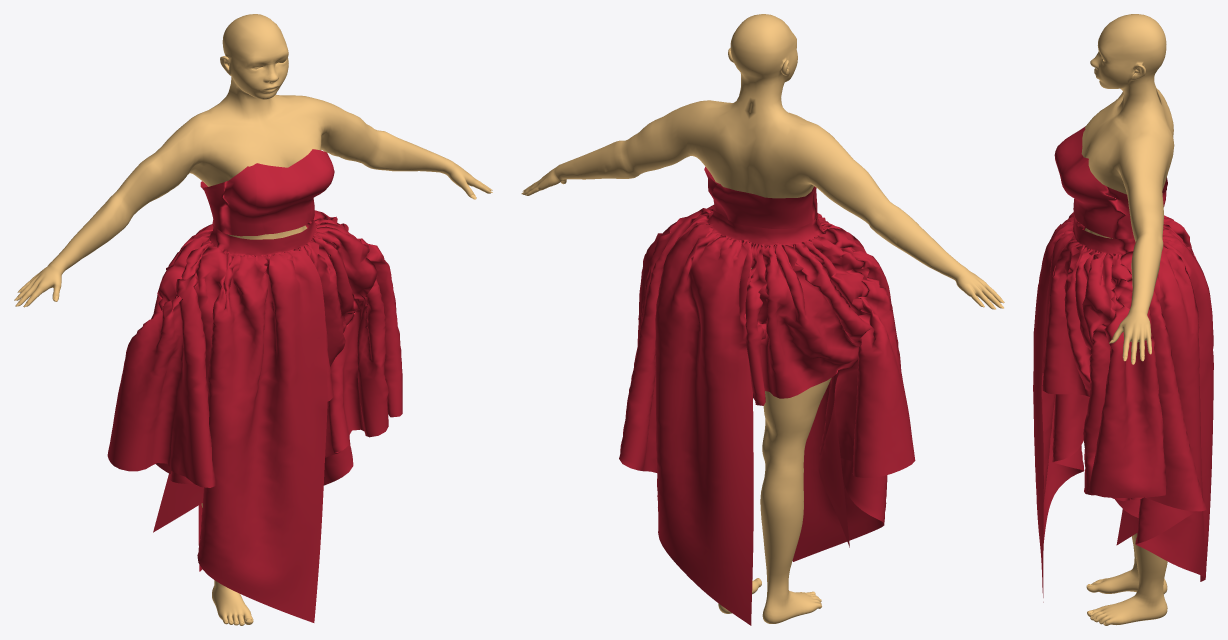
File: dress2.glb
3 views of the same model, side by side, from view 1: azimuth 30°, elevation 25°; view 2: azimuth 150°, elevation 25°; view 3: azimuth 270°, elevation 25° (orthographic).
Visible parts, largest first — view 1: Project 1, Body; view 2: Project 1, Body; view 3: Project 1, Body.
Boxes of the visible parts, x1,y1,x2,y2 form: Project 1: (107, 149, 402, 622); Body: (16, 14, 492, 625); Project 1: (619, 167, 915, 625); Body: (523, 14, 1001, 623); Project 1: (1033, 126, 1213, 602); Body: (1081, 14, 1174, 625).
Size of the model in its own units: 1.58 by 1.85 by 0.5151.
